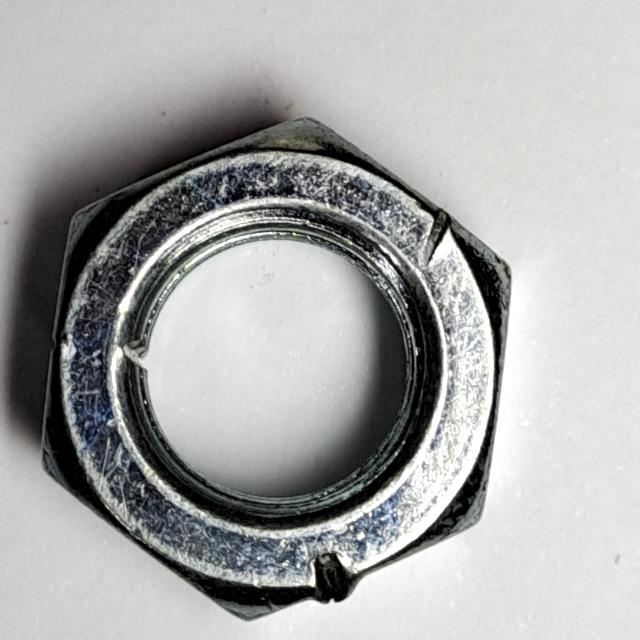Scratches: (32, 107, 525, 633)
